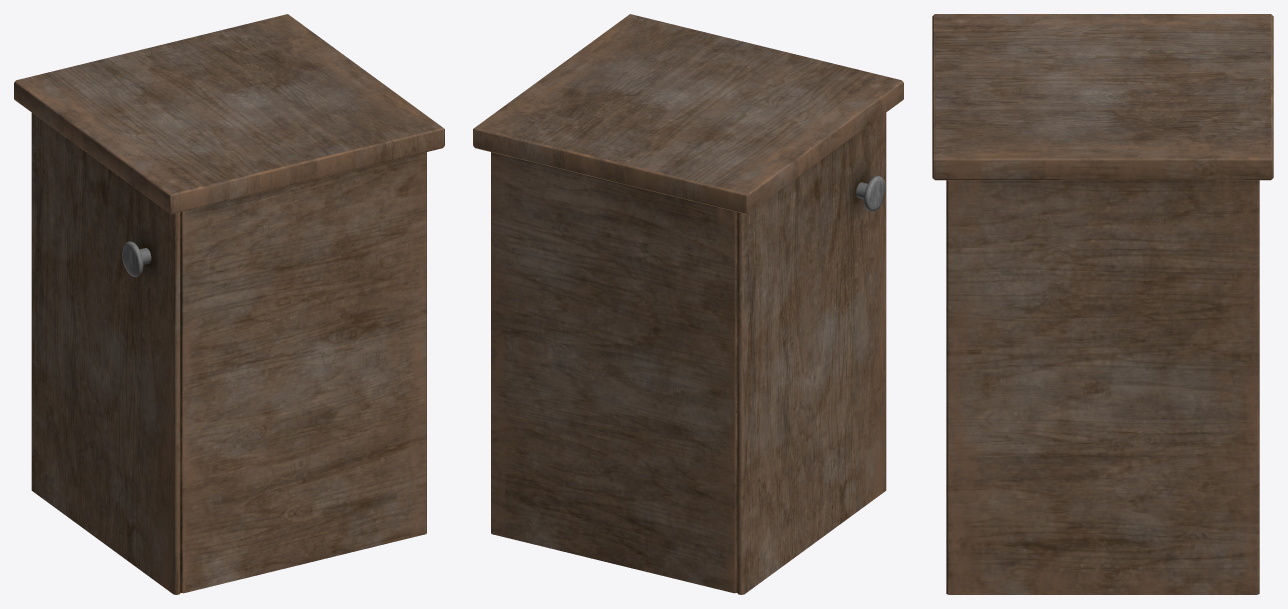
Rendered from capboardS.glb.
3 views of the same model, side by side, from view 1: azimuth 30°, elevation 25°; view 2: azimuth 150°, elevation 25°; view 3: azimuth 270°, elevation 25° (orthographic). The views are drawn at different scales.
Visible parts, largest first — view 1: Cube.011; view 2: Cube.011; view 3: Cube.011.
Boxes of the visible parts, bbox=[...] form: Cube.011: bbox=[14, 14, 444, 594]; Cube.011: bbox=[473, 14, 903, 594]; Cube.011: bbox=[932, 14, 1273, 594].
Size of the model in its own units: 0.2795 by 0.3864 by 0.2701.
1 material, 1 textured.
